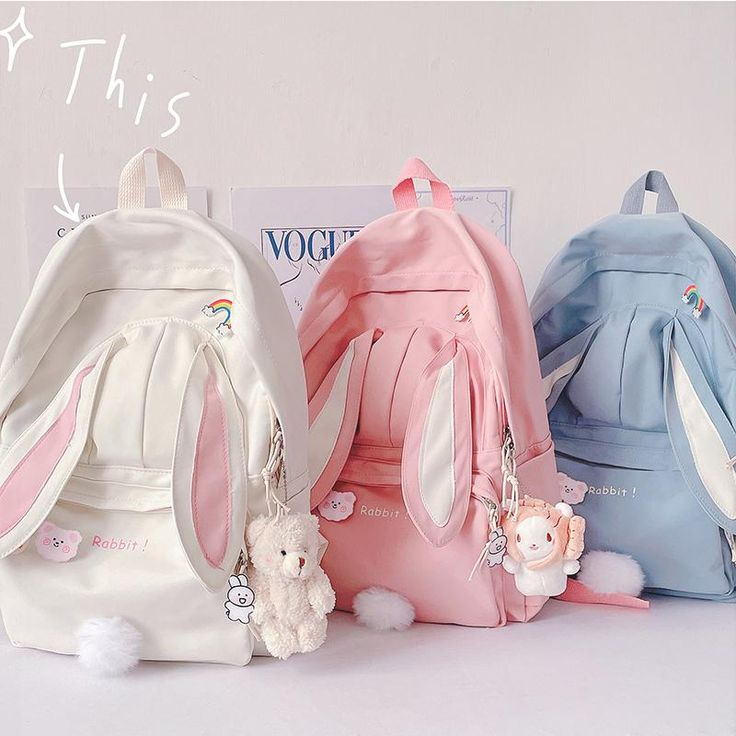nylon: (1, 146, 736, 669)
